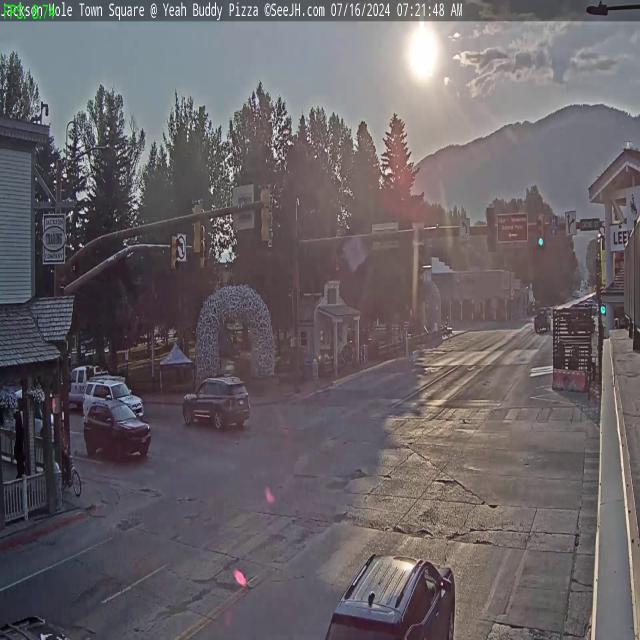bike: (59, 456, 82, 496)
person: (58, 414, 70, 474)
suv: (319, 552, 459, 640), (181, 370, 253, 438), (83, 400, 149, 467), (83, 376, 146, 418)
traffic light: (190, 199, 203, 258), (260, 184, 272, 245), (487, 206, 496, 251), (536, 214, 546, 248)
